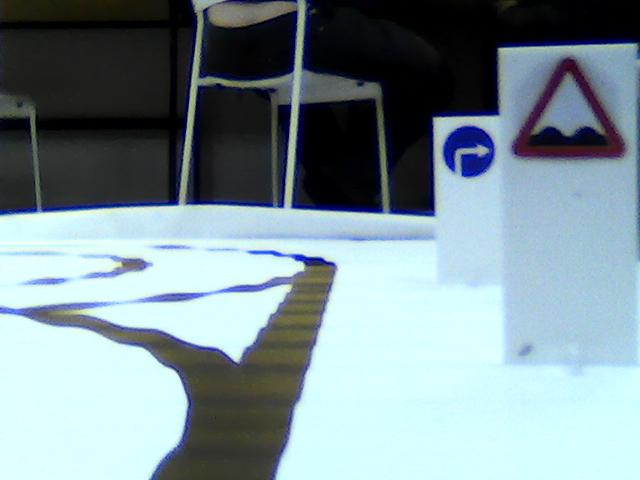Nerov: (507, 56, 629, 163)
Right: (440, 125, 497, 178)
